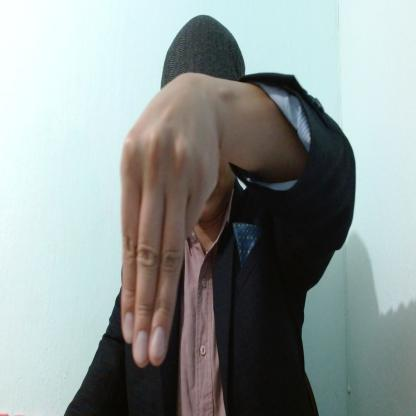M: (121, 72, 222, 370)
